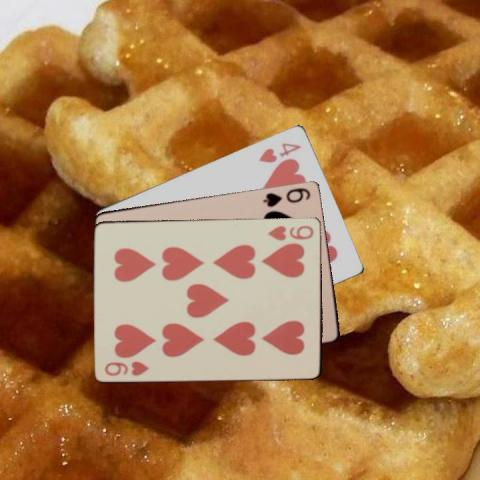4h: (255, 139, 303, 164)
6s: (261, 185, 312, 208)
9h: (265, 222, 315, 241), (102, 358, 151, 377)
